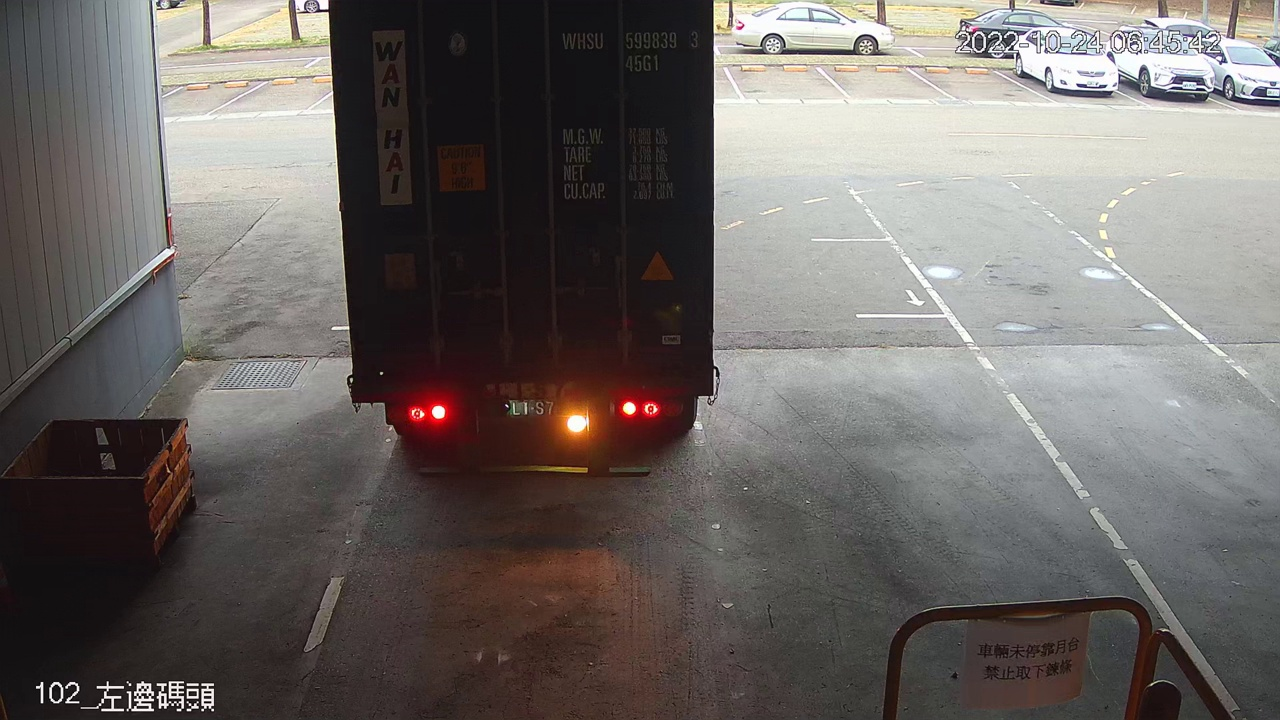container: (558, 24, 706, 78)
